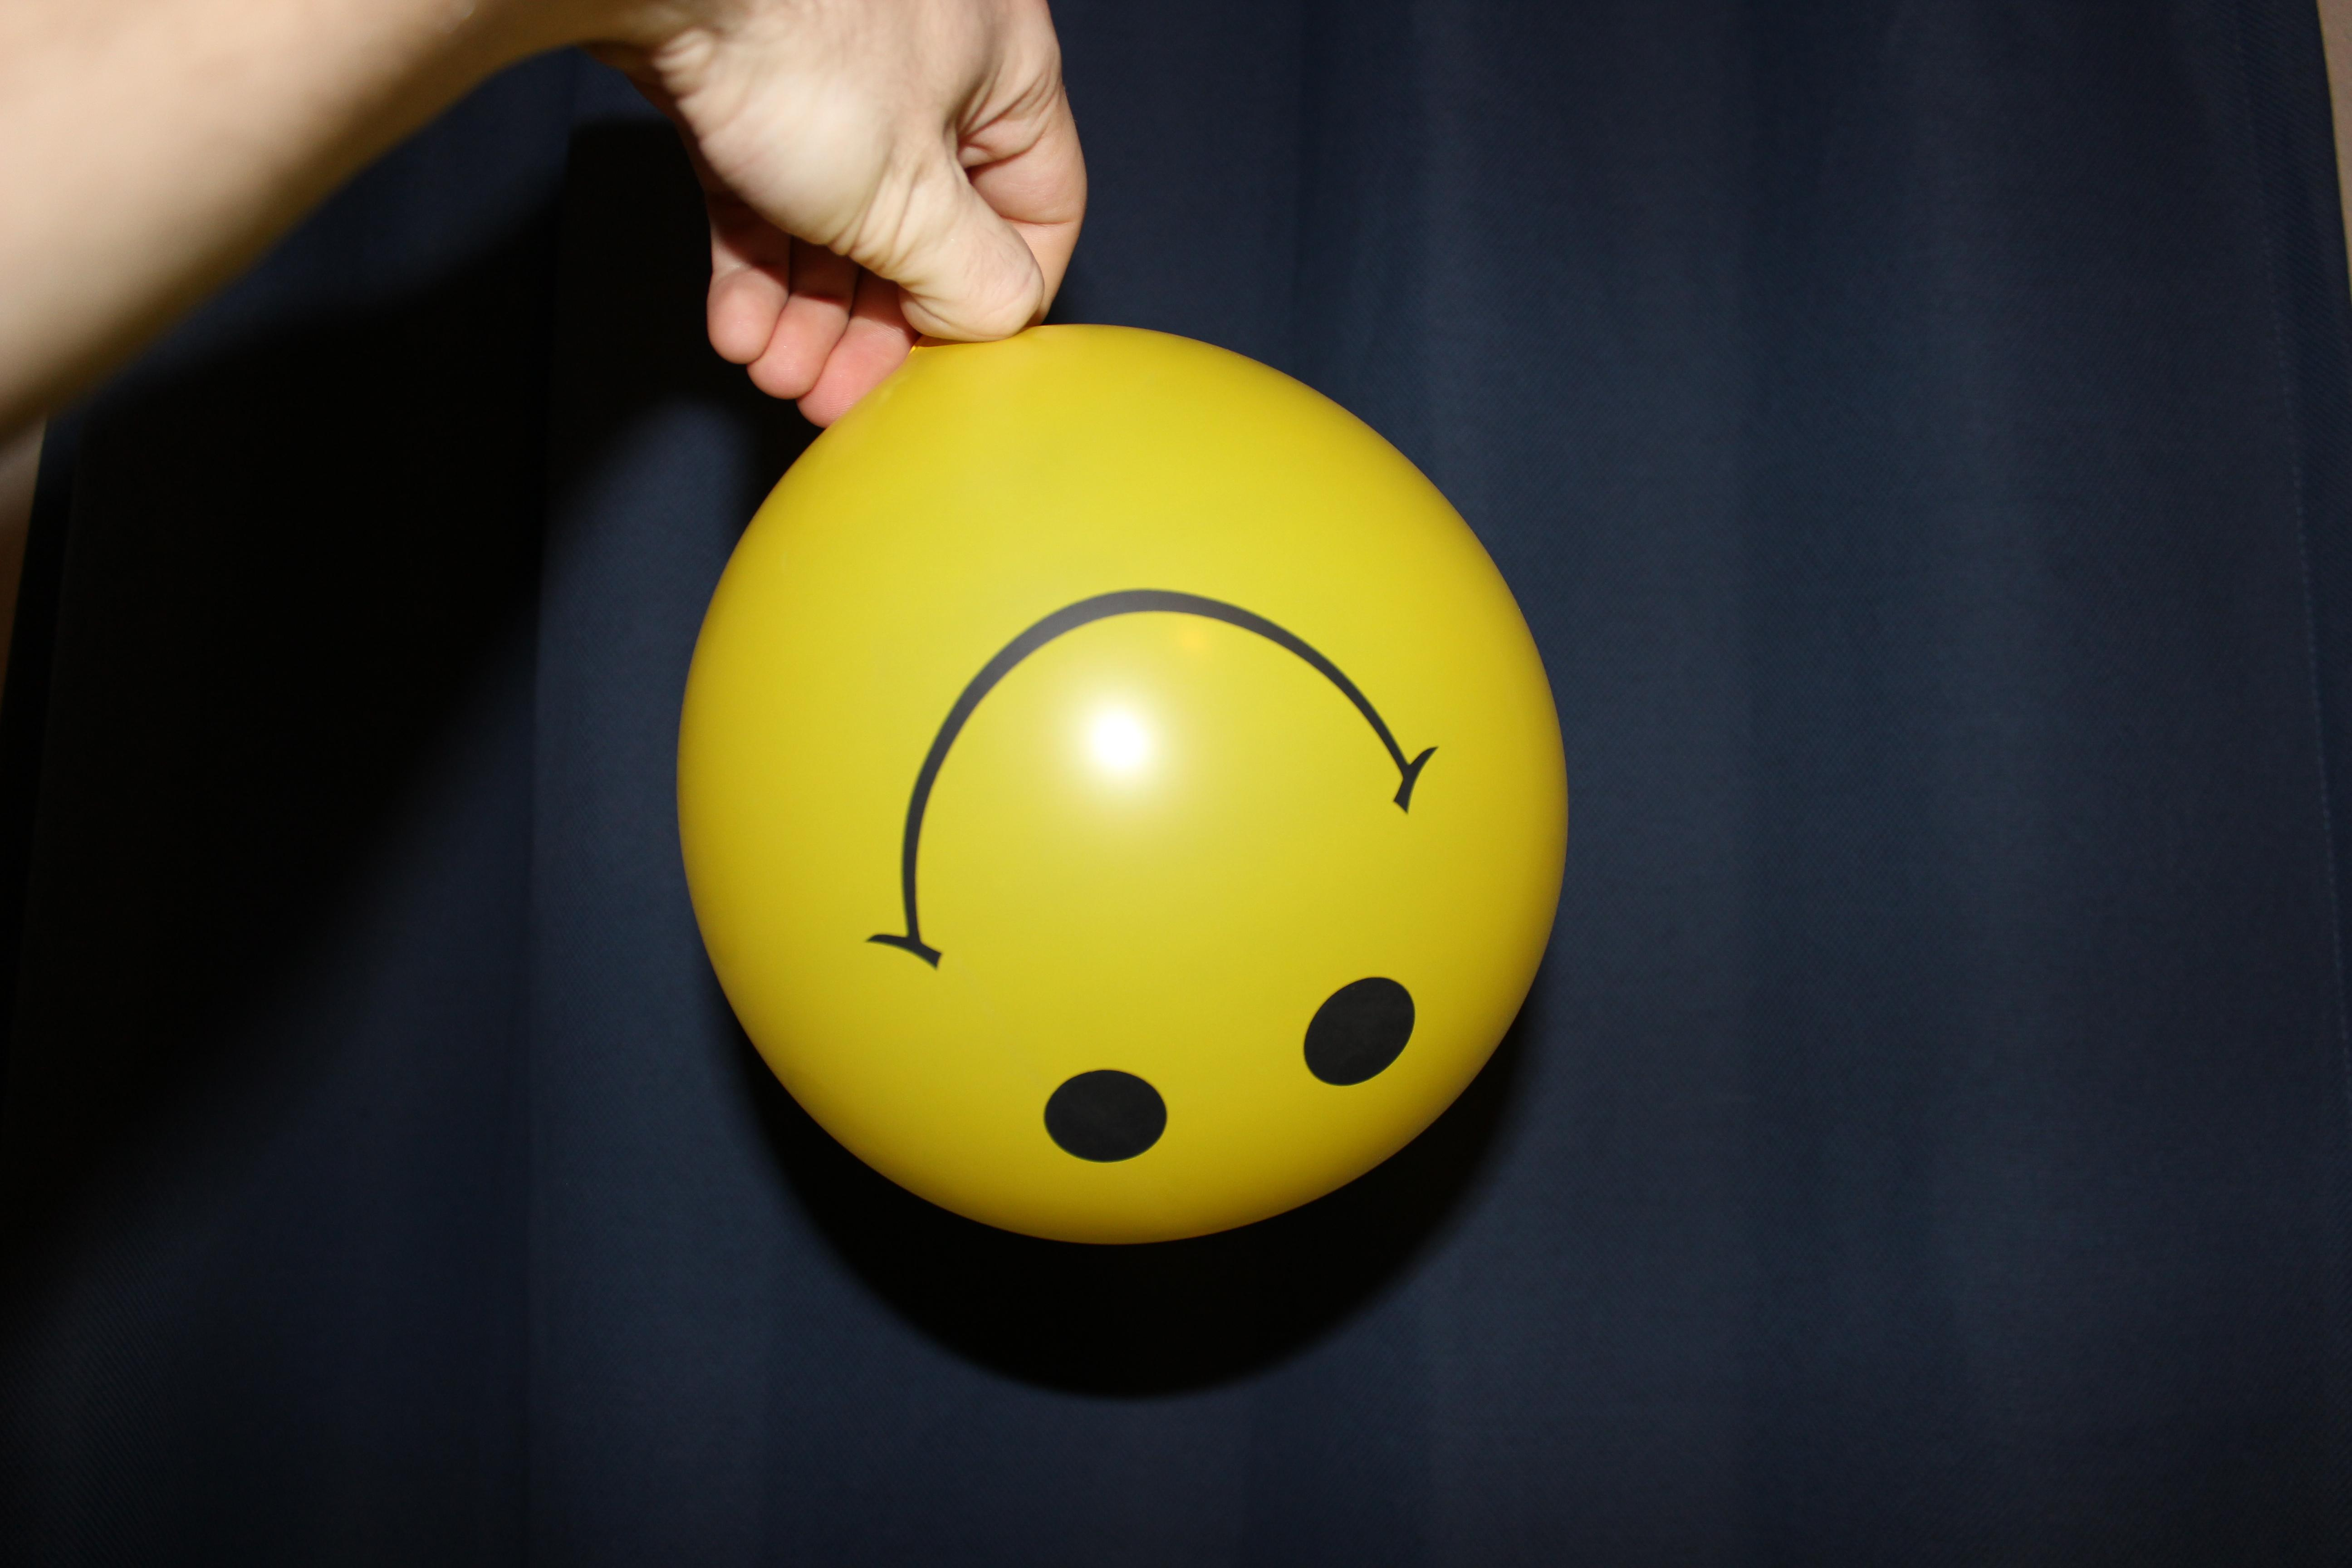yellowBalloon: (642, 282, 1622, 1318)
